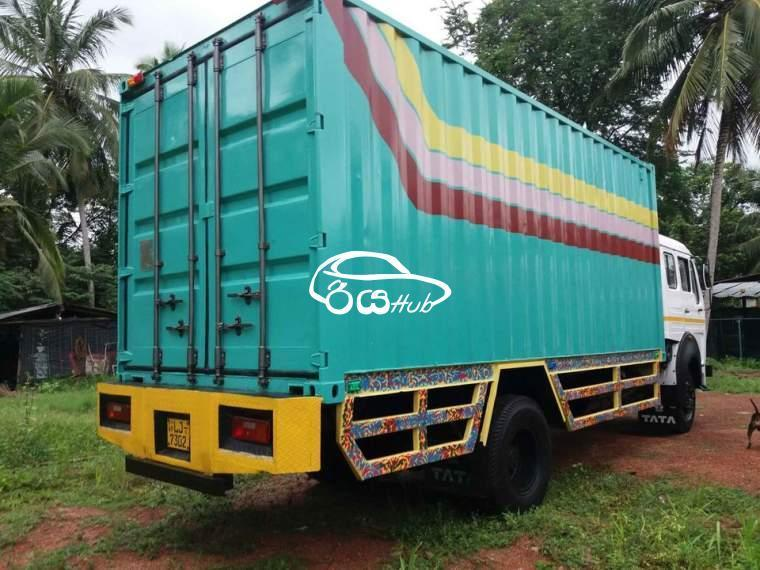truck: (94, 1, 710, 511)
